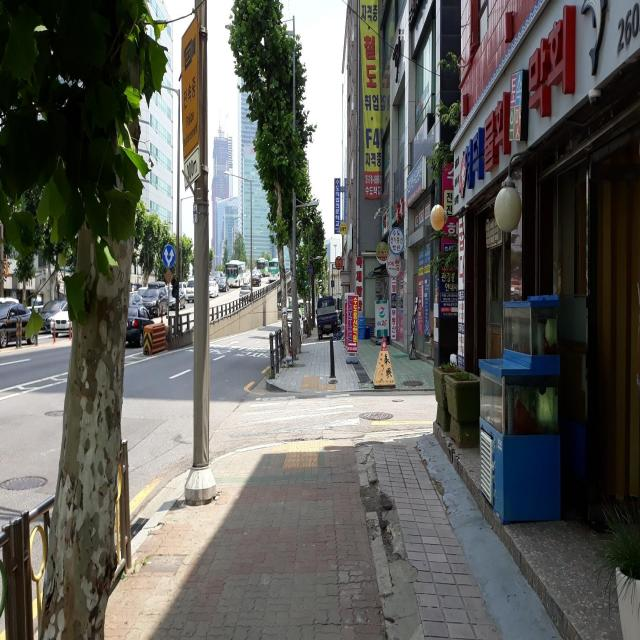횡단보도: (231, 392, 360, 438)
